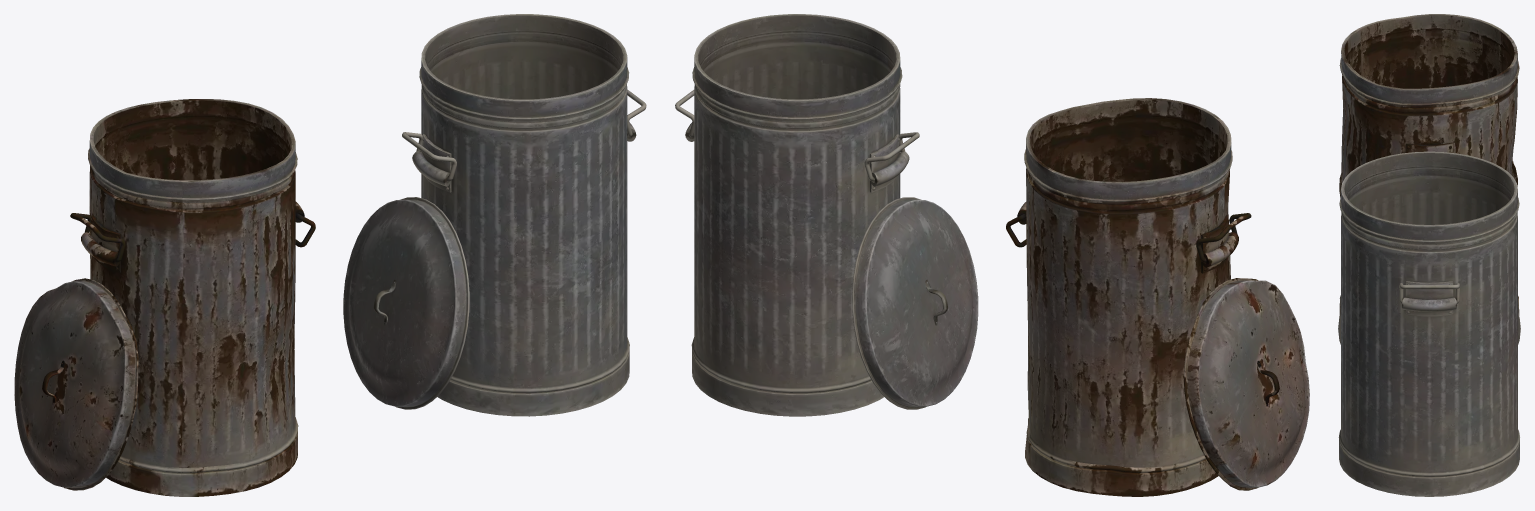
File: metal_trash_can.glb
3 views of the same model, side by side, from view 1: azimuth 30°, elevation 25°; view 2: azimuth 150°, elevation 25°; view 3: azimuth 270°, elevation 25° (orthographic). The views are drawn at different scales.
Visible parts, largest first — view 1: metal_trash_can_handle_left, metal_trash_can_rust; view 2: metal_trash_can_handle_left, metal_trash_can_rust; view 3: metal_trash_can_handle_left, metal_trash_can_rust.
Boxes of the visible parts, x1=… form: metal_trash_can_handle_left: x1=343, y1=14, x2=646, y2=416; metal_trash_can_rust: x1=14, y1=99, x2=315, y2=496; metal_trash_can_handle_left: x1=675, y1=14, x2=978, y2=416; metal_trash_can_rust: x1=1006, y1=98, x2=1309, y2=496; metal_trash_can_handle_left: x1=1338, y1=151, x2=1520, y2=496; metal_trash_can_rust: x1=1339, y1=14, x2=1519, y2=316.
Size of the model in its own units: 1.78 by 0.9062 by 0.5563.
Materials: 2 (2 with a texture image).
